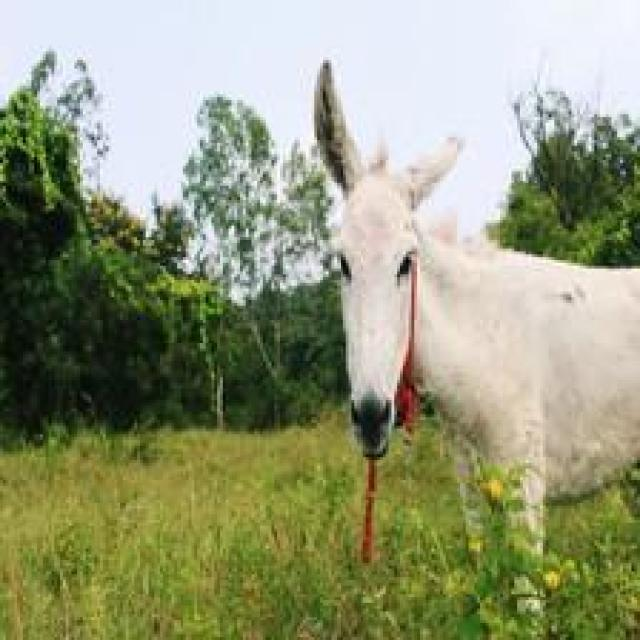Donkey: (309, 54, 637, 637)
